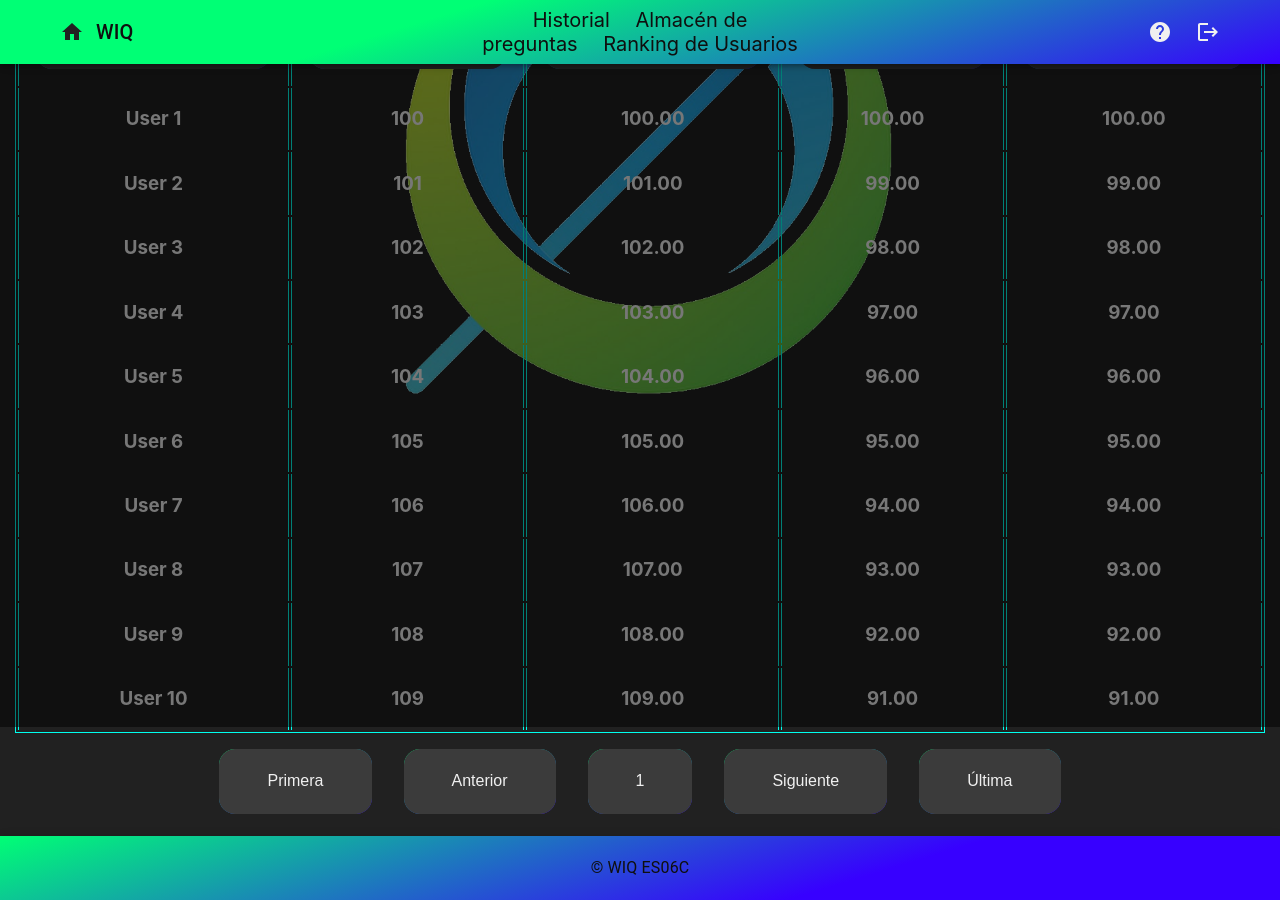
Test: App › navigates to the next page
The image size is (1280, 900).
(page scrolled)
Check: the heading "User 1" is shown, box [126,107,181,130]
Check: the heading "User 10" is shown, box [120,687,188,710]
Click the button "Siguiente" at (806, 782), box [724,749,887,814]
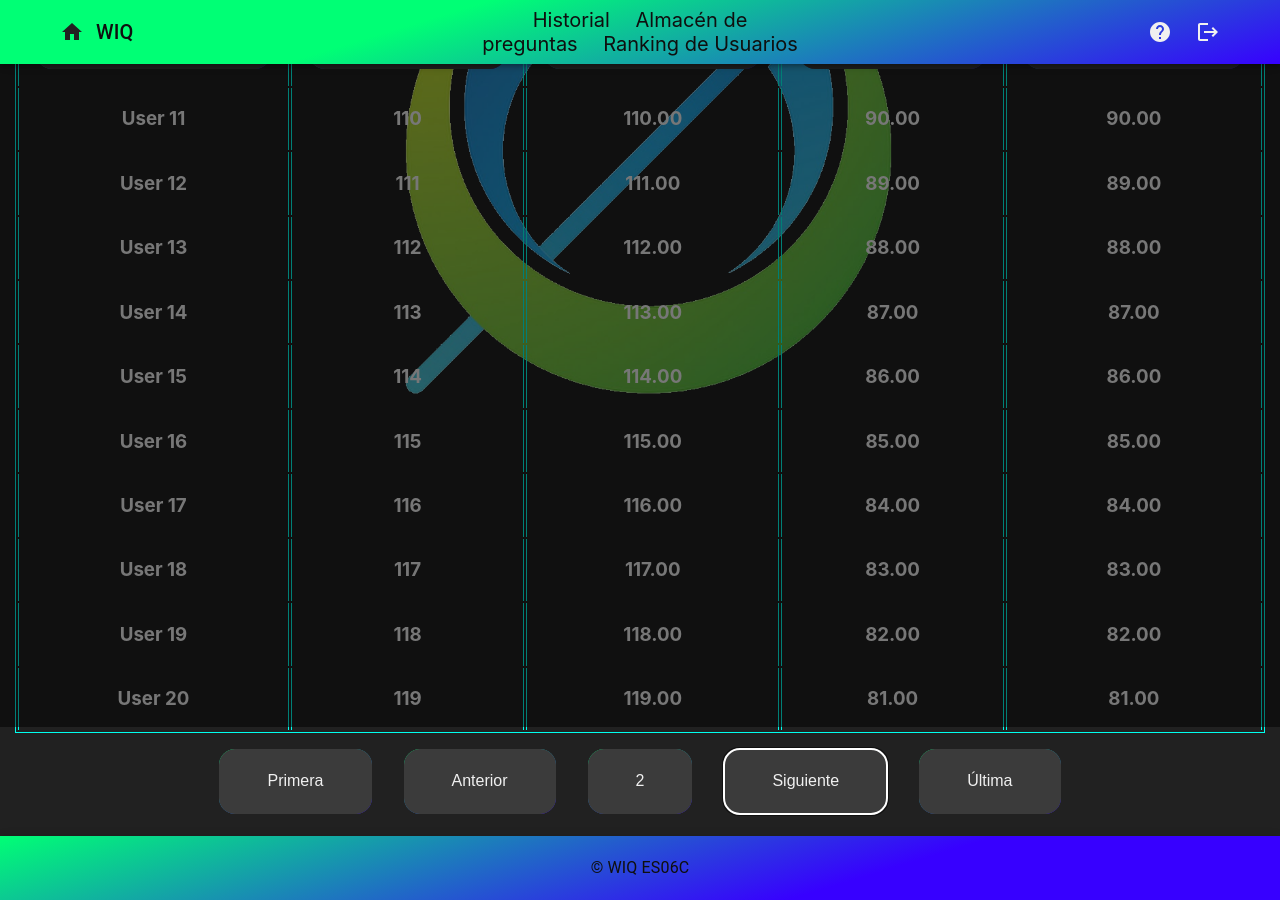
Check: the heading "User 11" is shown, box [122,107,185,130]
Check: the heading "User 20" is shown, box [118,687,189,710]
Click the button "Anterior" at (480, 782), box [404,749,556,814]
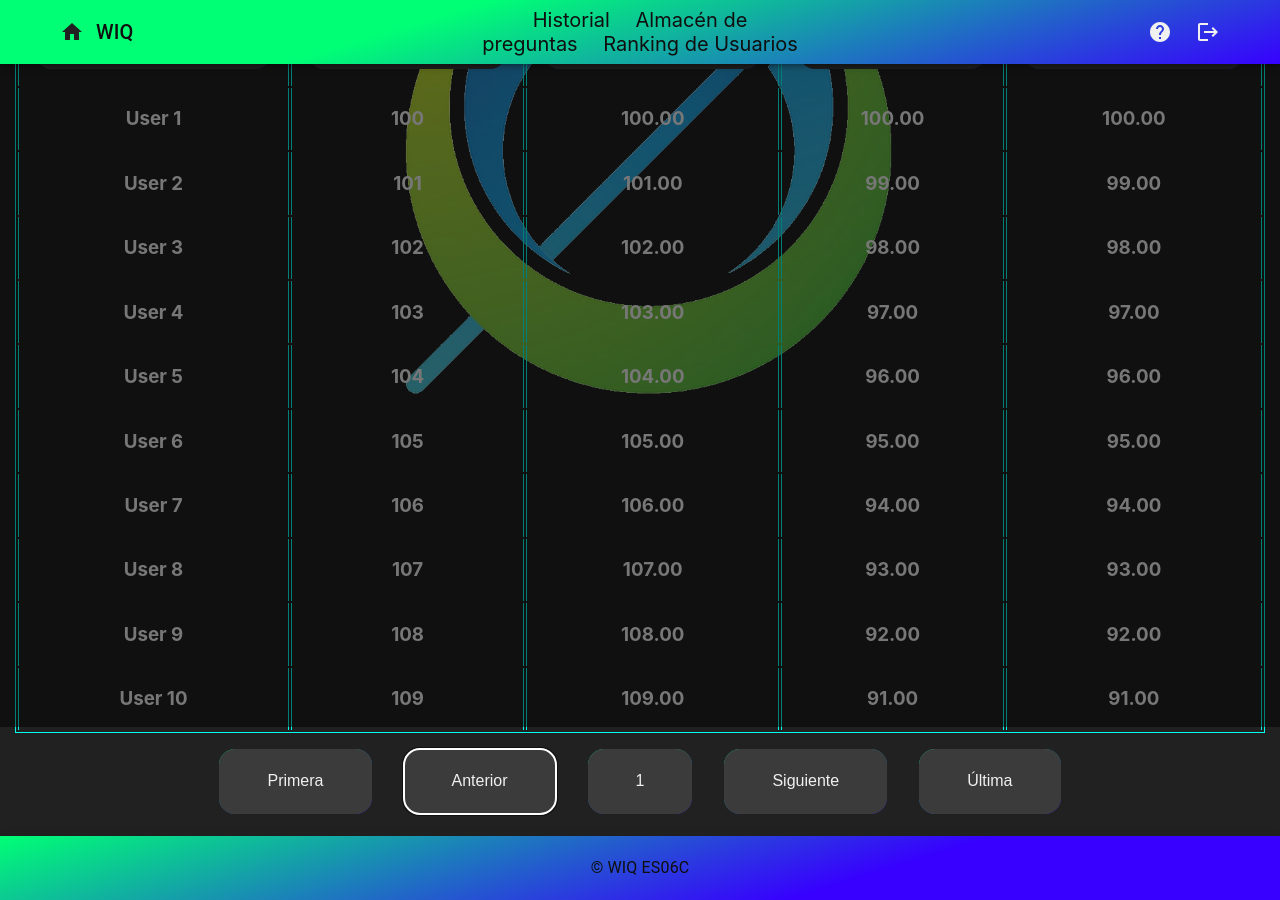
Check: the heading "User 1" is shown, box [126,107,181,130]
Check: the heading "User 10" is shown, box [120,687,188,710]
Click the button "Última" at (990, 782), box [919,749,1060,814]
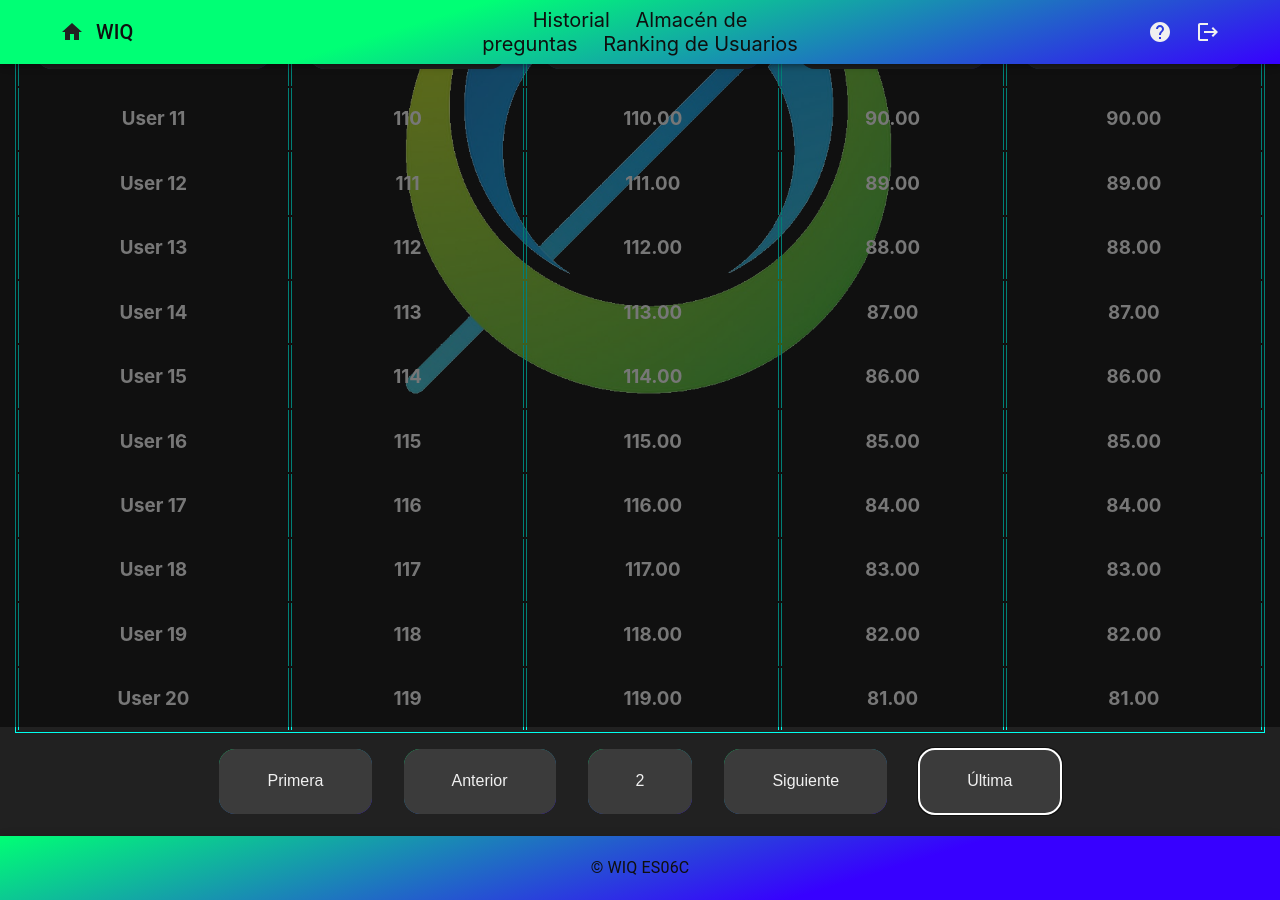
Check: the heading "User 11" is shown, box [122,107,185,130]
Check: the heading "User 20" is shown, box [118,687,189,710]
Click the button "Primera" at (296, 782), box [220,749,372,814]
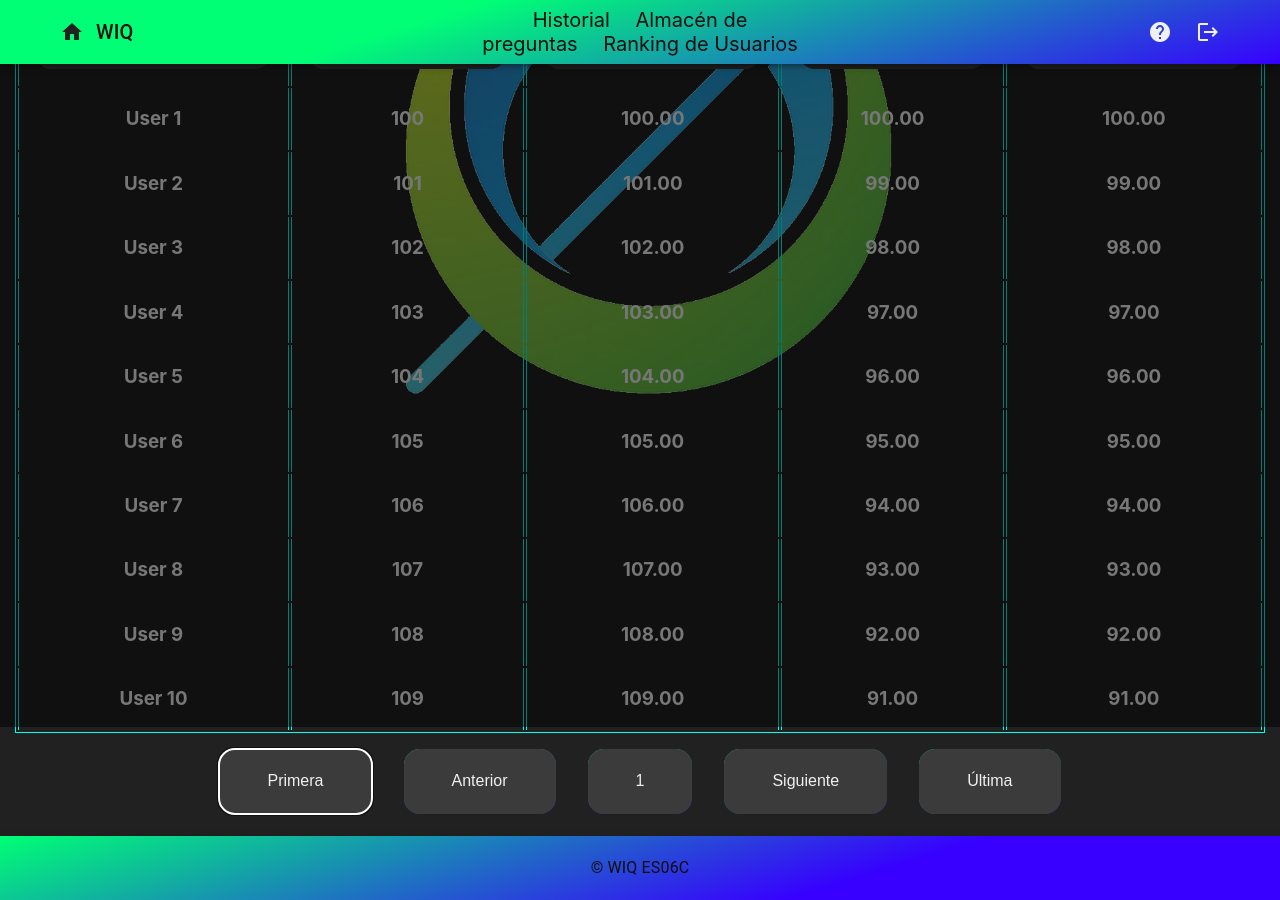
Check: the heading "User 1" is shown, box [126,107,181,130]
Check: the heading "User 10" is shown, box [120,687,188,710]
